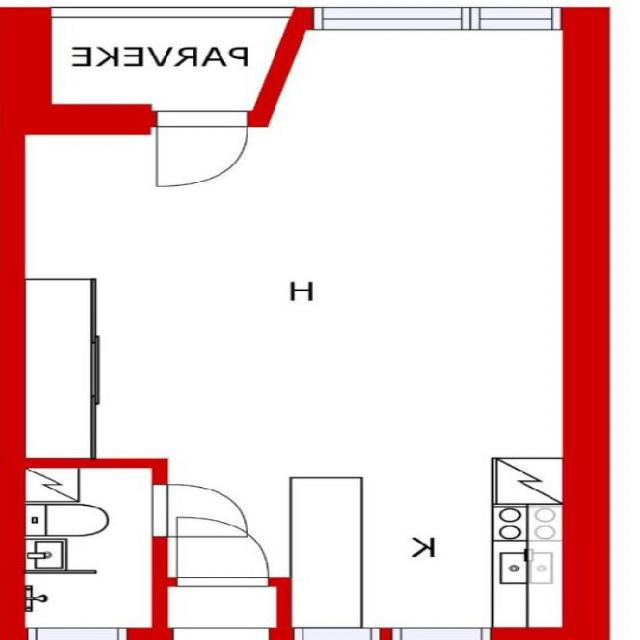door: (158, 111, 248, 186), (178, 516, 269, 587), (153, 484, 249, 536)
